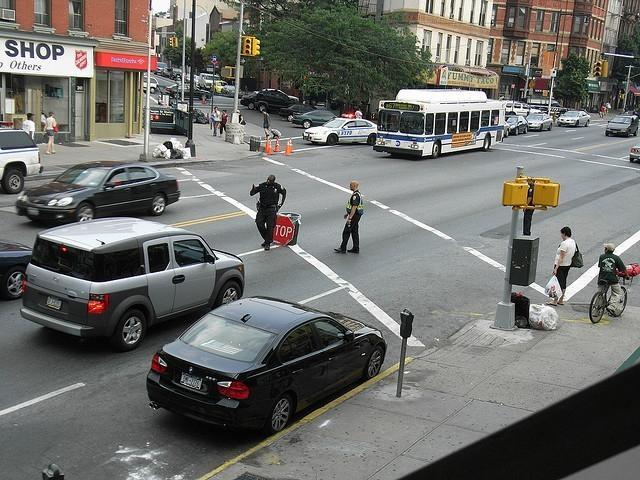bicycle: (589, 279, 628, 324)
bus: (373, 89, 506, 158)
car: (146, 296, 386, 440), (16, 214, 246, 352), (14, 160, 181, 228), (0, 128, 44, 194), (302, 112, 377, 146), (0, 237, 32, 299), (291, 110, 335, 130), (606, 115, 640, 137), (557, 110, 592, 128), (526, 114, 554, 132), (504, 116, 528, 135), (240, 92, 258, 111), (143, 76, 159, 94)
